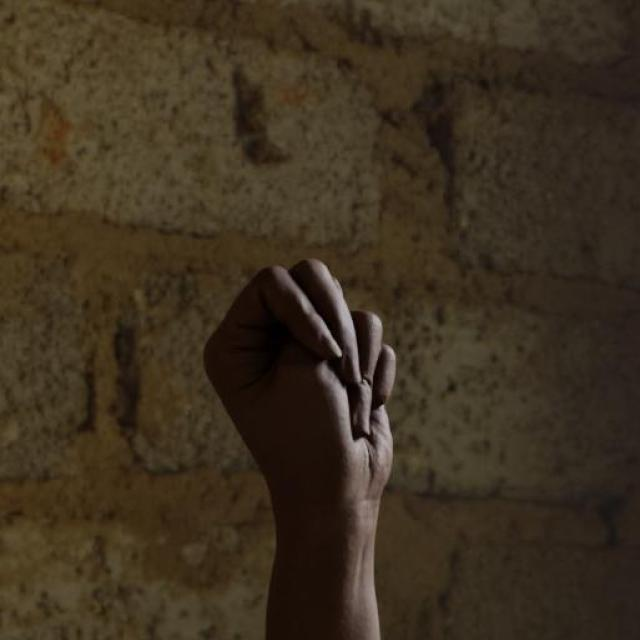N: (180, 213, 438, 586)
